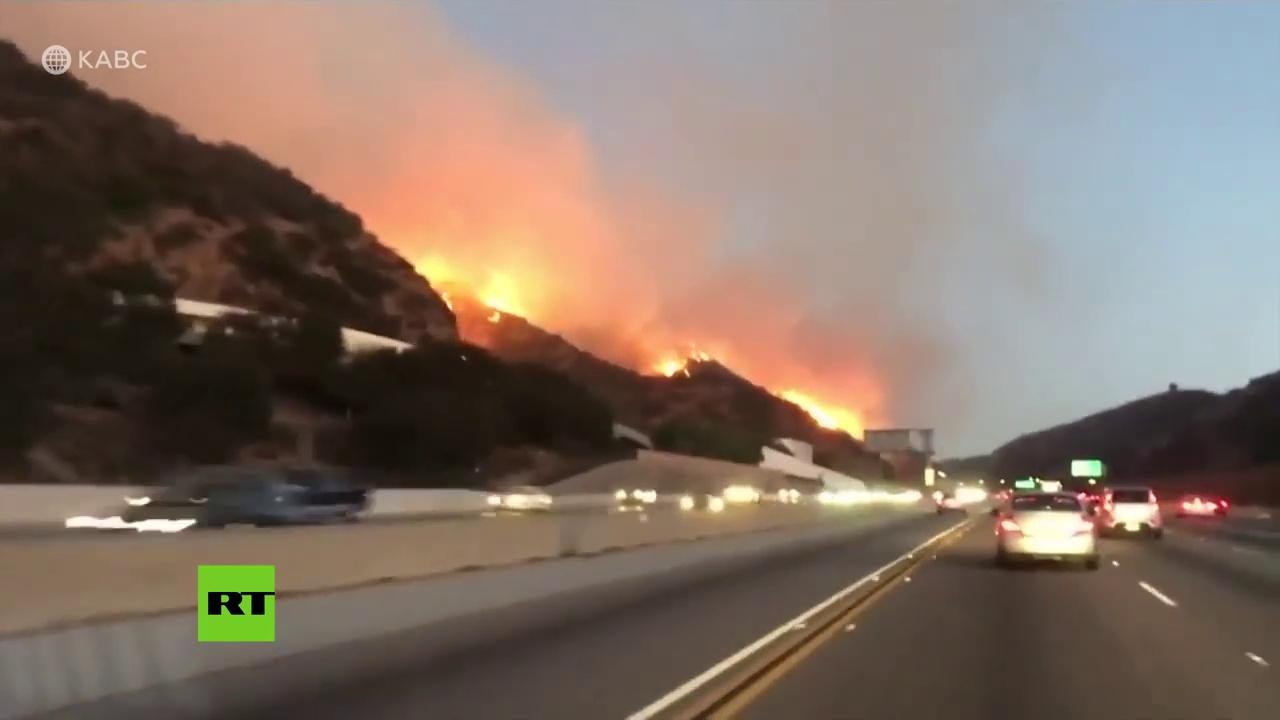Fire: (410, 255, 531, 325), (787, 385, 867, 444), (651, 341, 716, 384)
